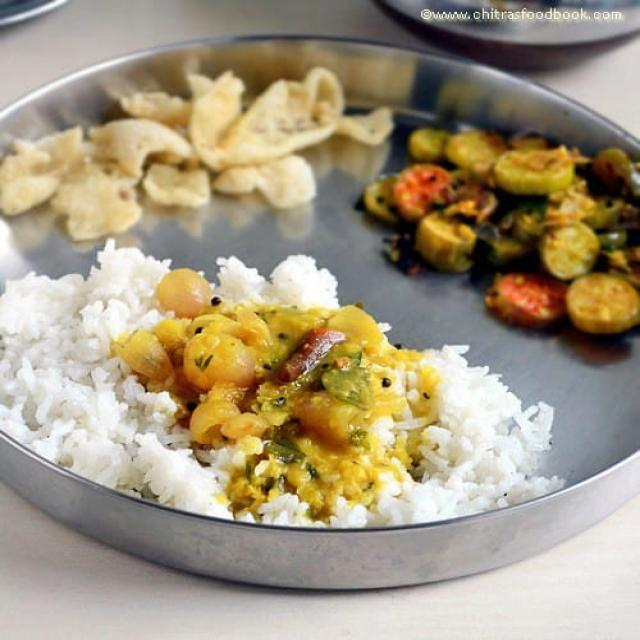veg meals: (0, 51, 640, 538)
